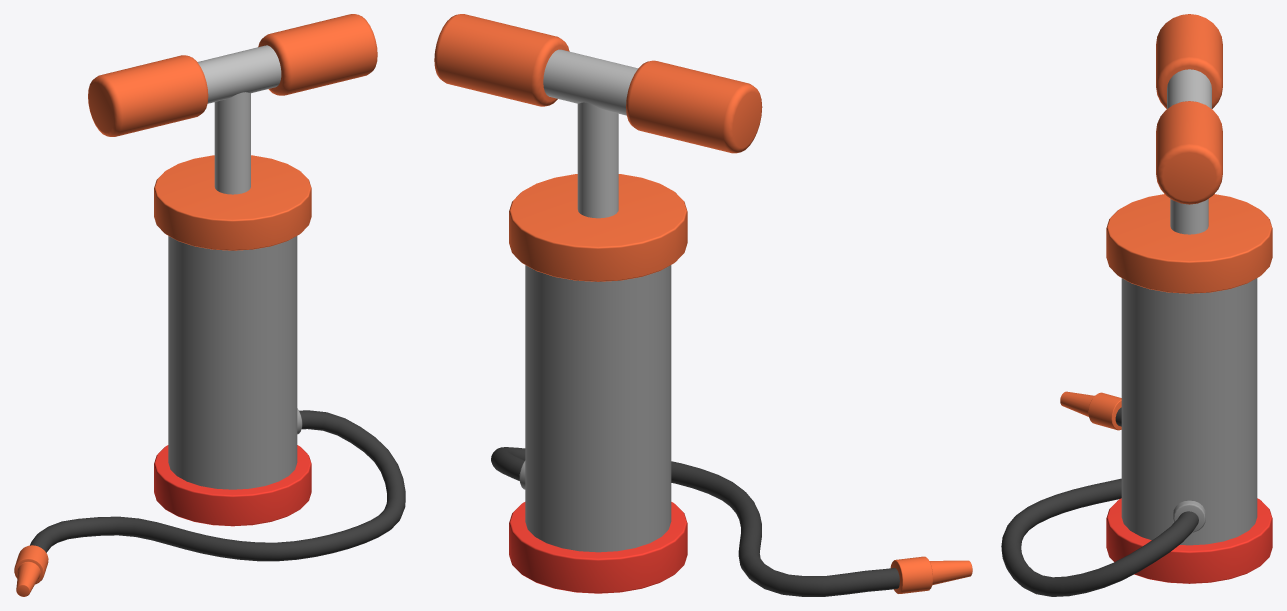
Rendered from Public_5_Pump_1.glb.
The picture shows the model from 3 angles, left to right: view 1: azimuth 30°, elevation 25°; view 2: azimuth 150°, elevation 25°; view 3: azimuth 270°, elevation 25°; orthographic projection. The views are drawn at different scales.
Parts seen in each view (by area): view 1: Public_5_Pump_1; view 2: Public_5_Pump_1; view 3: Public_5_Pump_1.
Boxes of the visible parts, <box> form: Public_5_Pump_1: <box>14,14,405,596</box>; Public_5_Pump_1: <box>434,14,972,596</box>; Public_5_Pump_1: <box>1001,14,1272,596</box>.
Size of the model in its own units: 2.32 by 2.45 by 1.28.
Materials: 1 (1 with a texture image).
